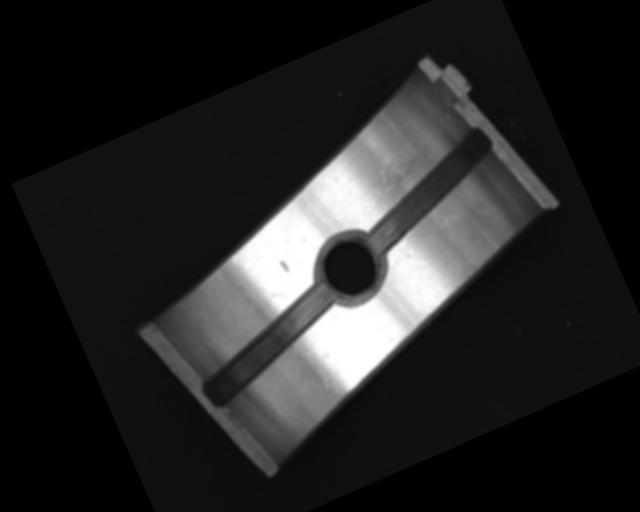bruise: (277, 257, 290, 274)
gap: (343, 124, 514, 258), (185, 281, 354, 408)
hole: (305, 225, 395, 313)
scratch: (354, 141, 449, 216)
